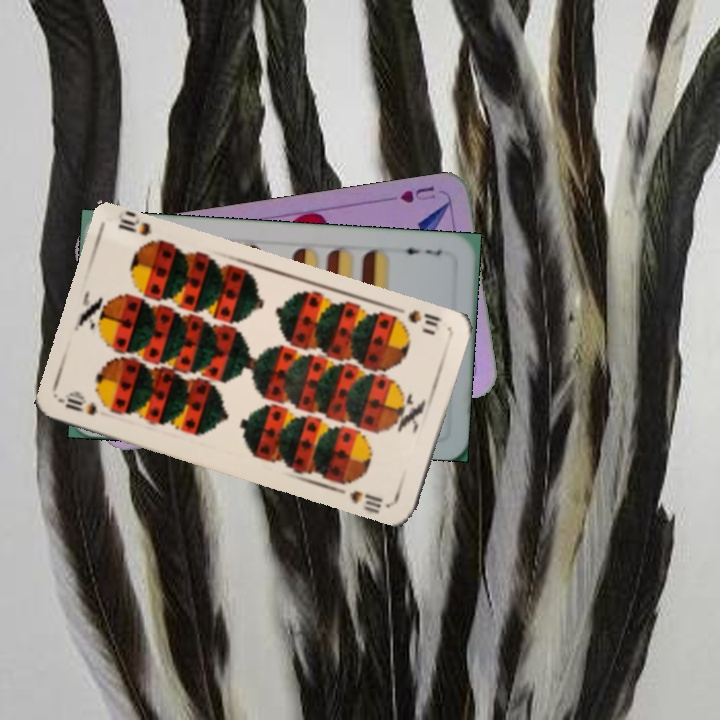E7: (395, 243, 445, 259)
HU: (395, 182, 438, 206)
S10: (389, 303, 443, 330), (58, 389, 100, 418)
